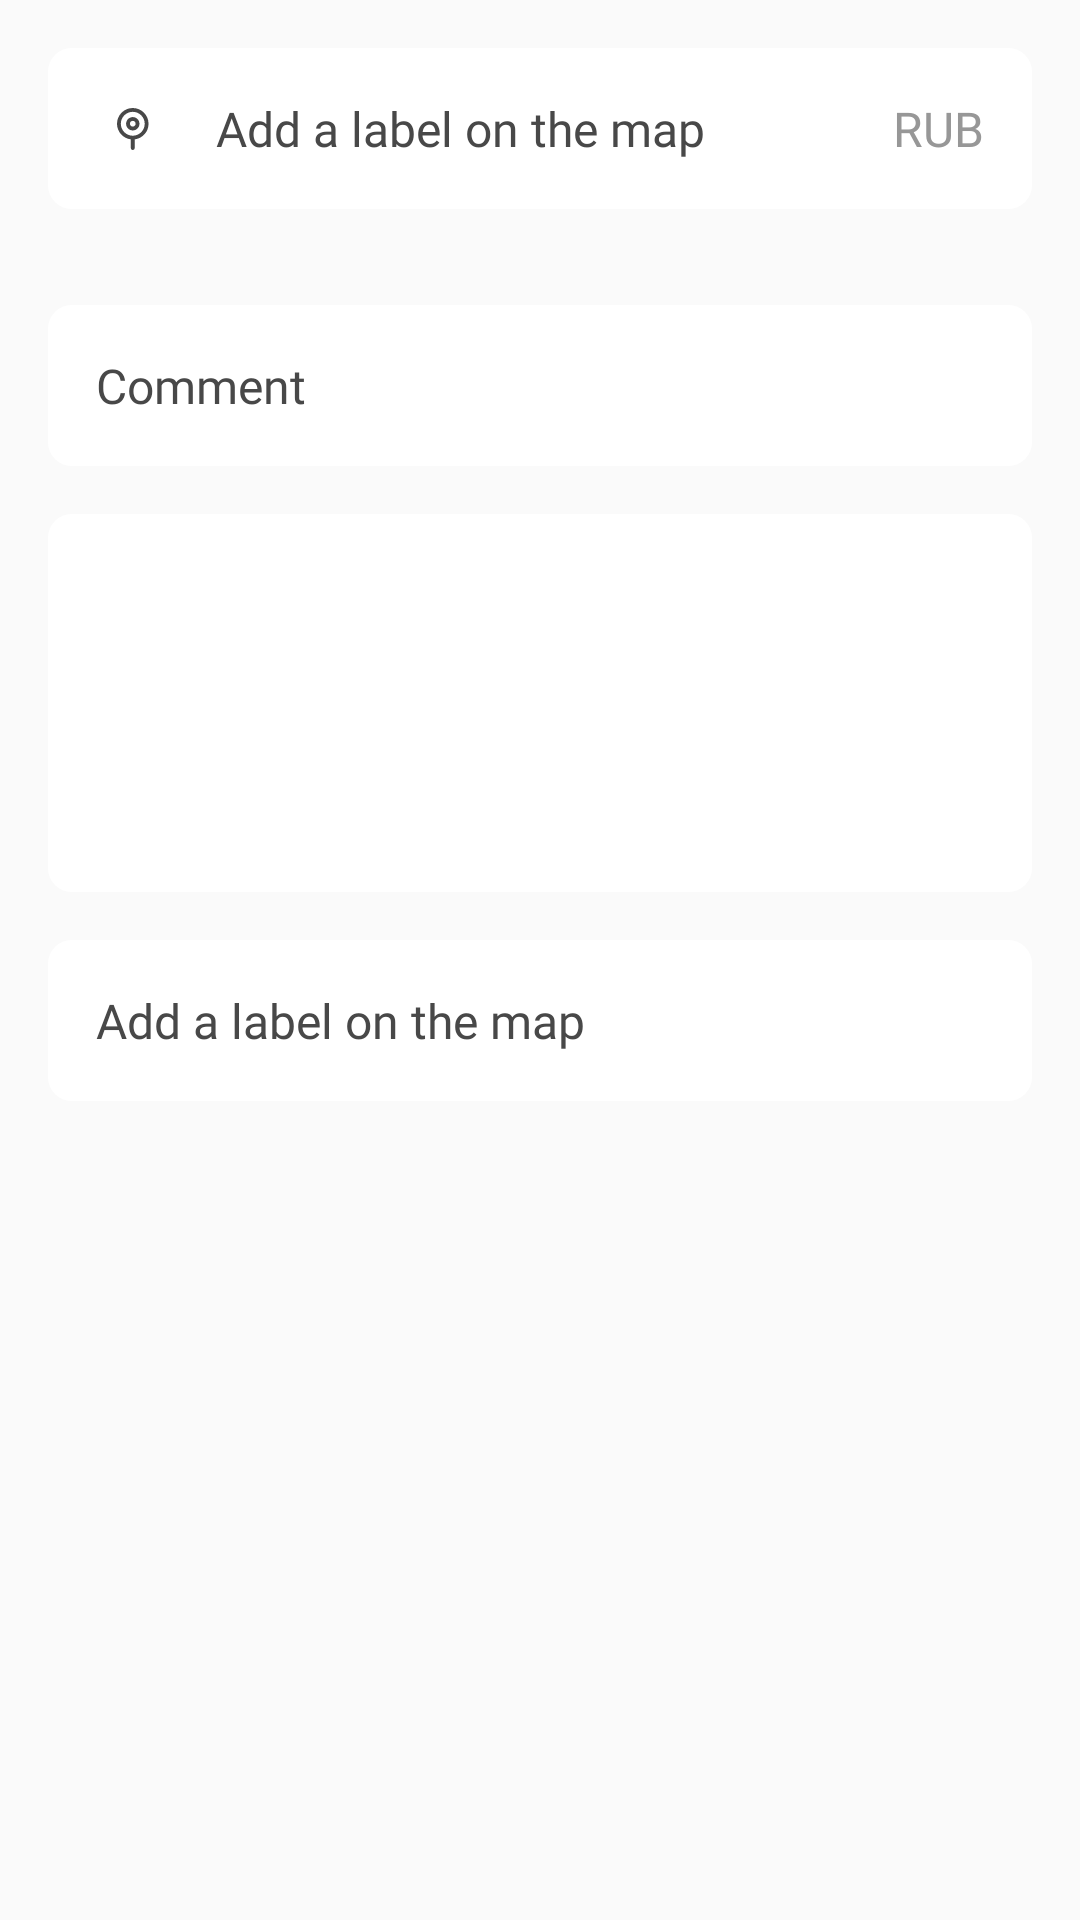

Icon bounding boxes for this 1080*1920 phone screenshot, format (x1, y1, x2, y2):
location sign: (117, 108, 149, 150)
